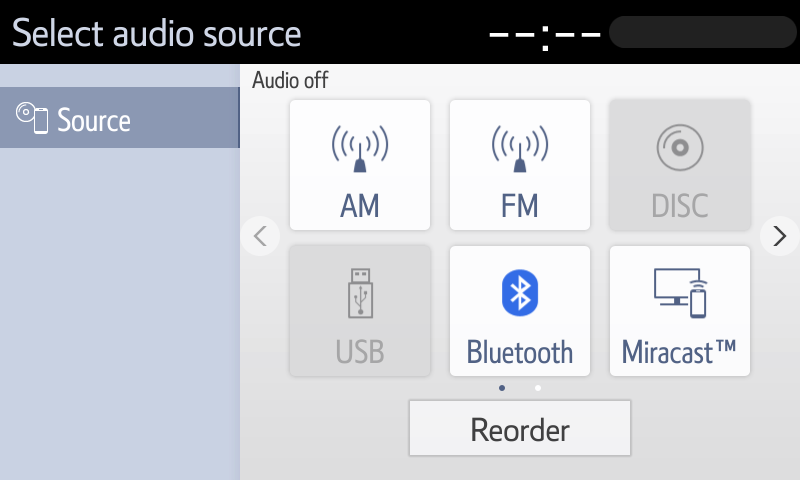touchPart: (608, 242, 760, 381), (446, 96, 594, 235), (285, 100, 435, 235), (448, 246, 590, 378), (396, 400, 635, 459), (761, 209, 799, 265)
untouchPart: (286, 244, 434, 385), (605, 98, 756, 235), (1, 84, 241, 151), (481, 9, 793, 57), (11, 13, 299, 54), (246, 212, 281, 256)
